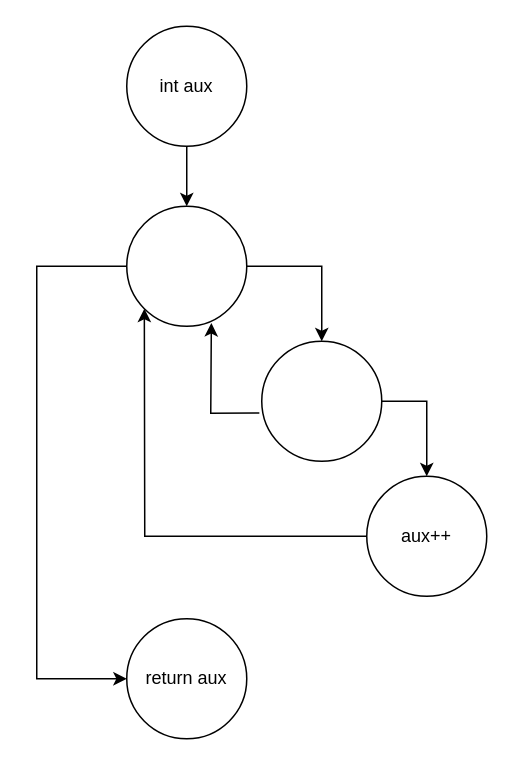
This 513x765 diagram has some shape labels left out. The shapes that lost their labels are listed below. From the top down, each one's centre as x and y in pixels, then its label:
(186,265): for
(321,400): if
